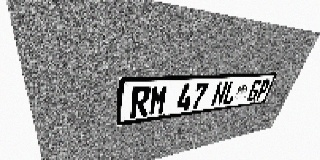4: (176, 83, 196, 112)
7: (190, 83, 209, 110)
G: (246, 79, 263, 102)
L: (221, 81, 240, 105)
M: (148, 85, 169, 116)
N: (210, 81, 229, 107)
P: (254, 79, 271, 100)
R: (130, 86, 151, 118)
